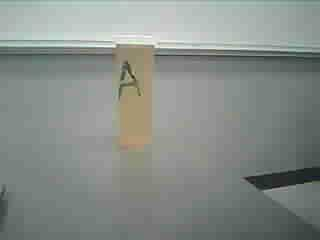Bottle A: (104, 28, 168, 156)
